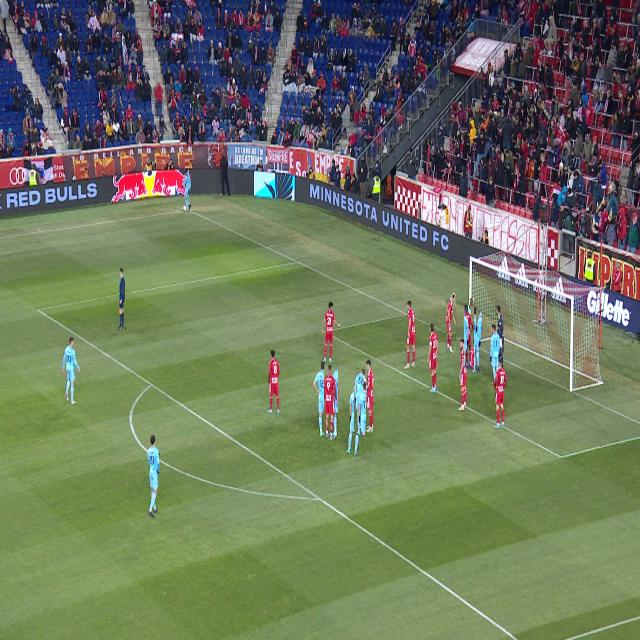football: (184, 207, 187, 211)
goalkeeper: (496, 305, 504, 362)
player: (62, 337, 80, 405), (322, 302, 342, 363), (313, 362, 329, 438), (346, 382, 362, 455), (147, 435, 160, 517), (324, 366, 338, 439), (494, 359, 507, 428), (267, 350, 280, 414), (469, 307, 481, 373), (427, 323, 438, 393), (404, 301, 415, 369), (355, 369, 366, 435), (458, 339, 467, 411), (464, 306, 474, 367), (490, 324, 500, 385), (446, 292, 456, 353), (366, 360, 374, 432), (181, 170, 191, 210), (476, 310, 482, 332), (470, 346, 473, 369), (470, 299, 474, 306), (467, 309, 471, 316), (475, 346, 476, 369), (501, 364, 503, 368)
referee: (119, 268, 125, 331)
